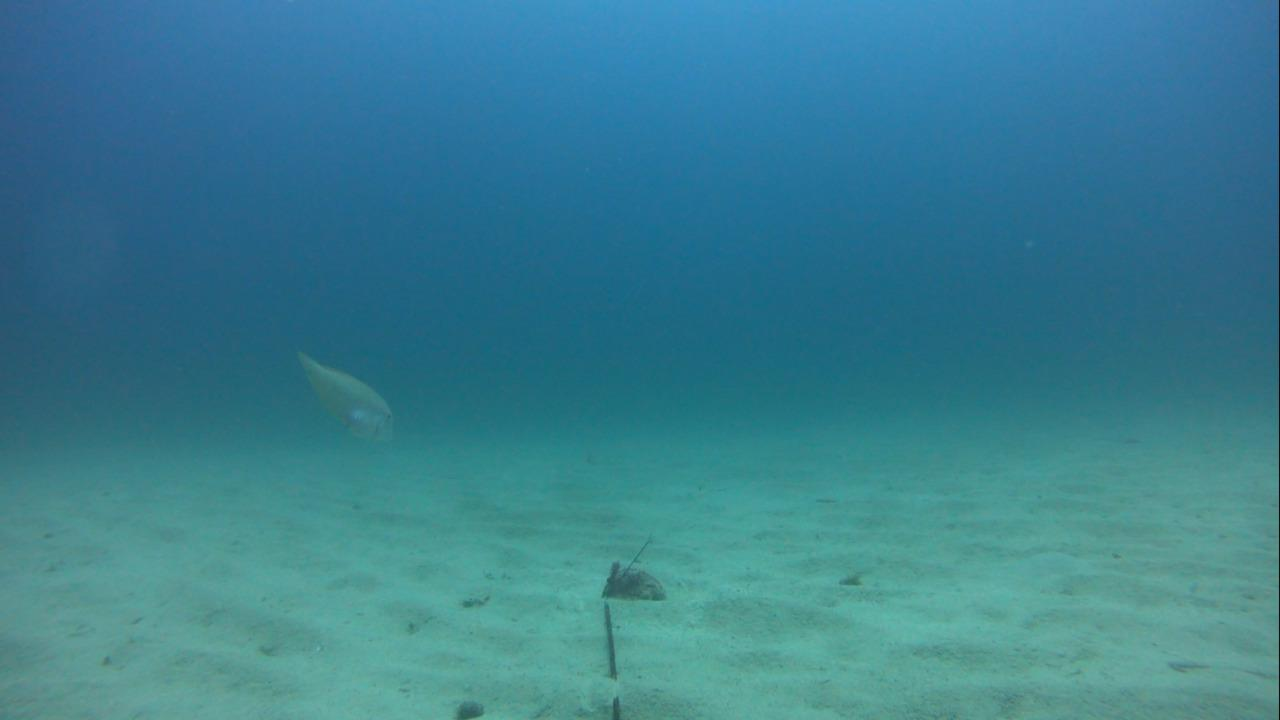raor: (289, 347, 399, 443)
